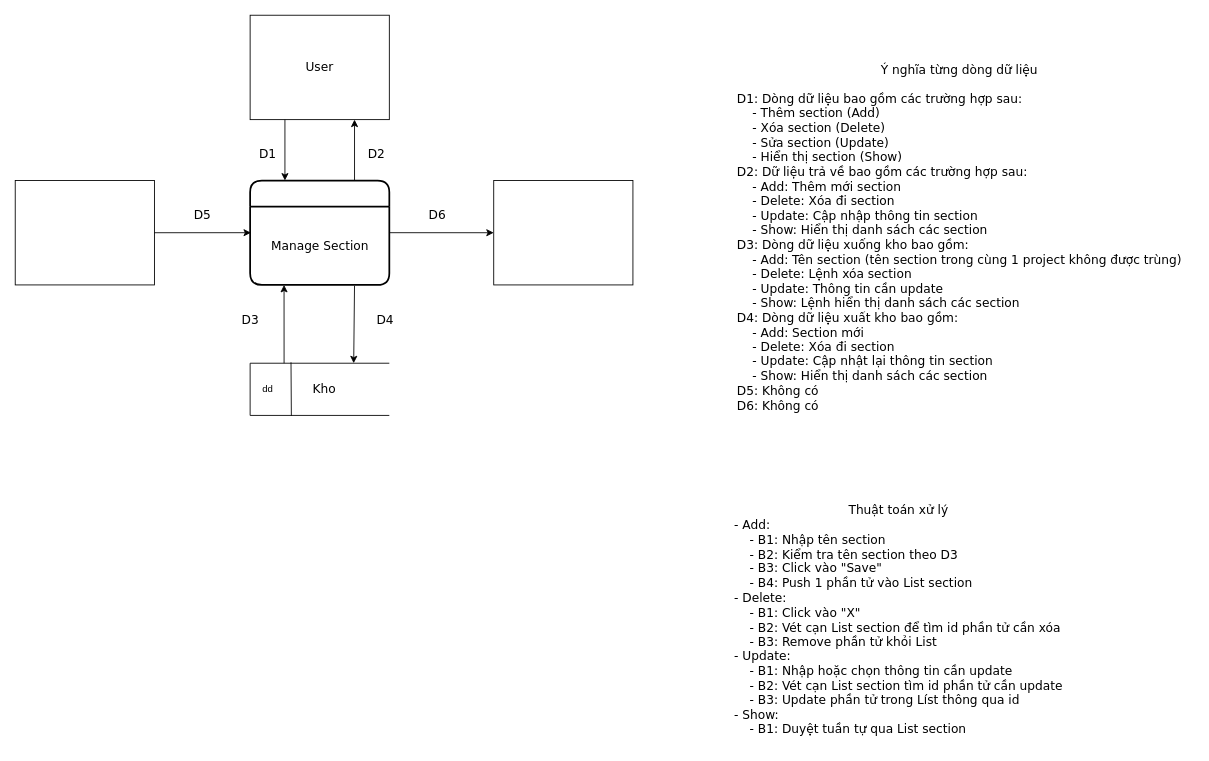
This 1209x761 diagram has some shape labels left out. The box of each missing label's shape, as (x1, y1, x2, y2) in pixels:
Thiết bị nhập: (14, 180, 154, 285)
Thiết bị xuất: (493, 180, 633, 285)
